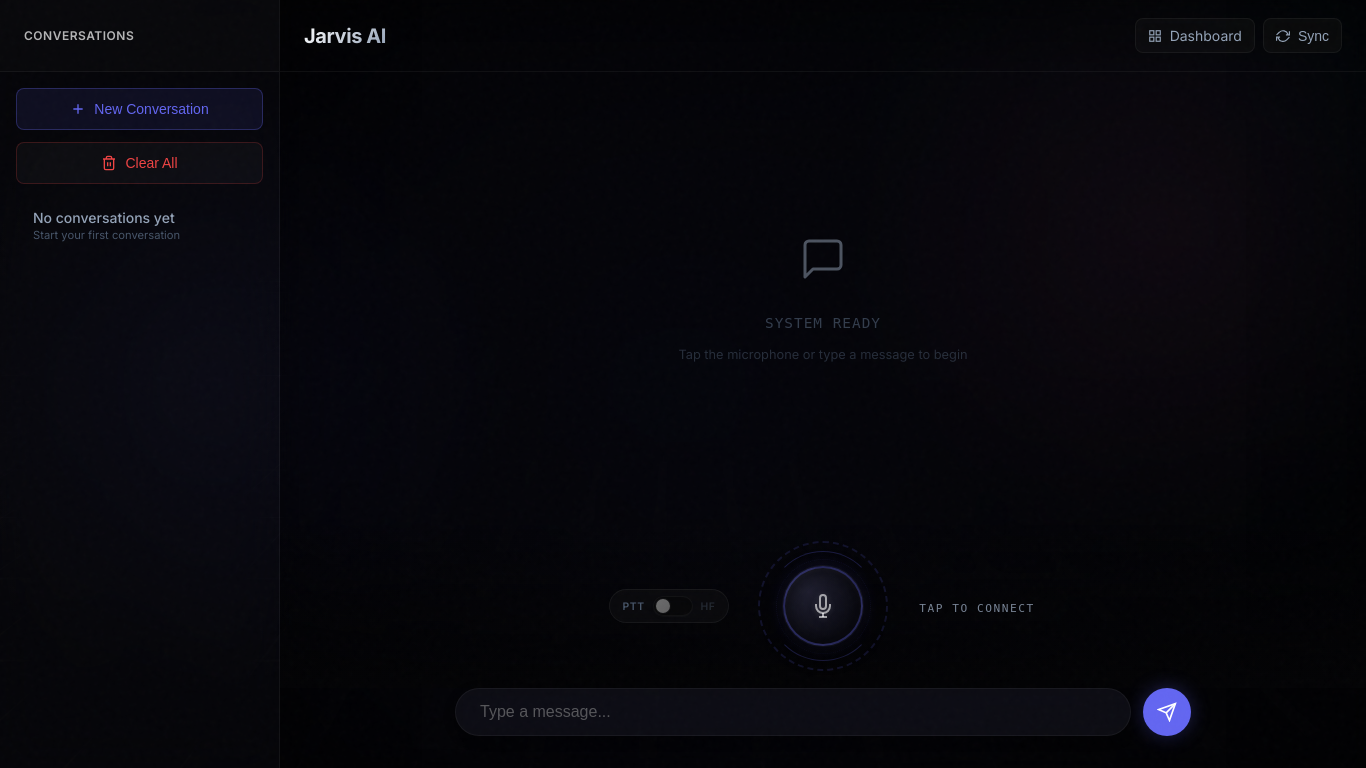
Test: Jarvis React App › clears messages on new conversation
The image size is (1366, 768).
Send a message first
Type "Test message" into the field with placeholder "Type a message..." at [793, 712], box top-left (455, 688), bottom-right (1131, 736)
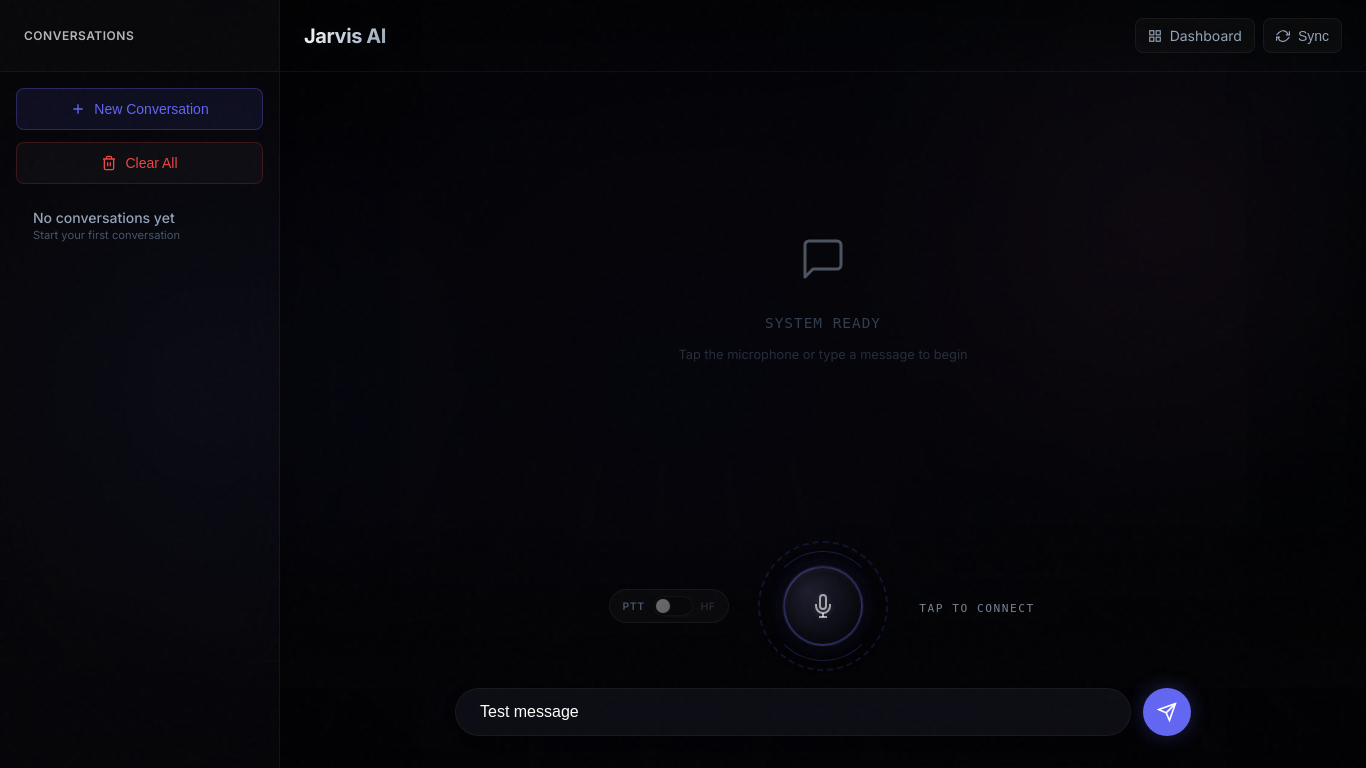
Click the button named "Send message" at [1167, 712], box top-left (1143, 688), bottom-right (1191, 736)
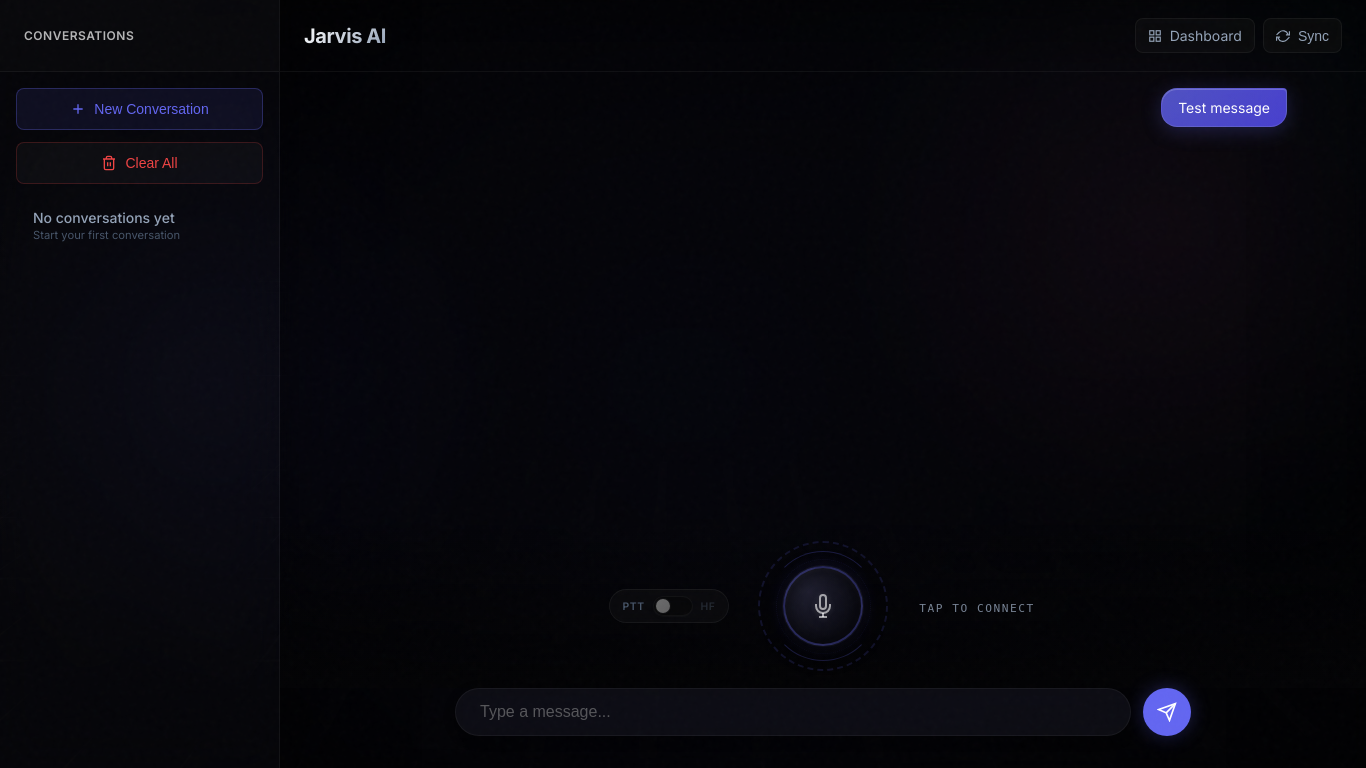
Check: the text "Test message" is shown, box top-left (1178, 97), bottom-right (1270, 118)
Click new conversation
Click the button "New Conversation" at [140, 109], box top-left (16, 88), bottom-right (263, 130)
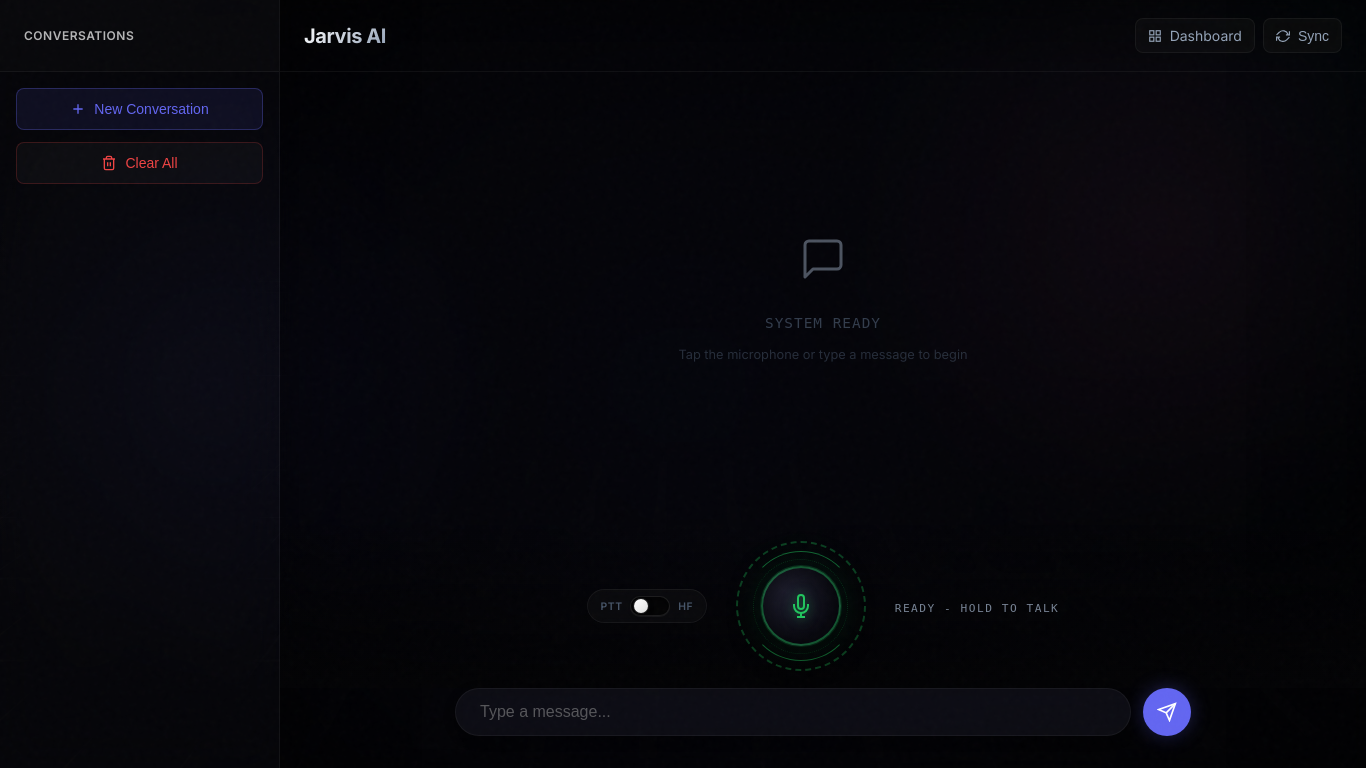
Check: the text "Test message" is gone
